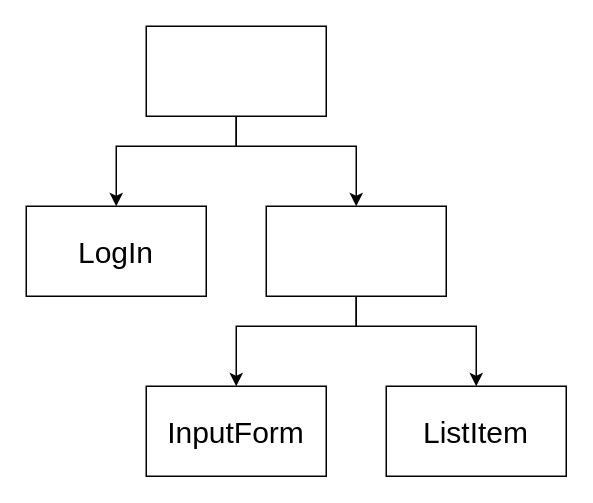
This 593x503 diagram has some shape labels left out. The box of each missing label's shape, as (x1, y1, x2, y2) in pixels:
App: (145, 25, 326, 116)
TodoList: (265, 205, 446, 296)
